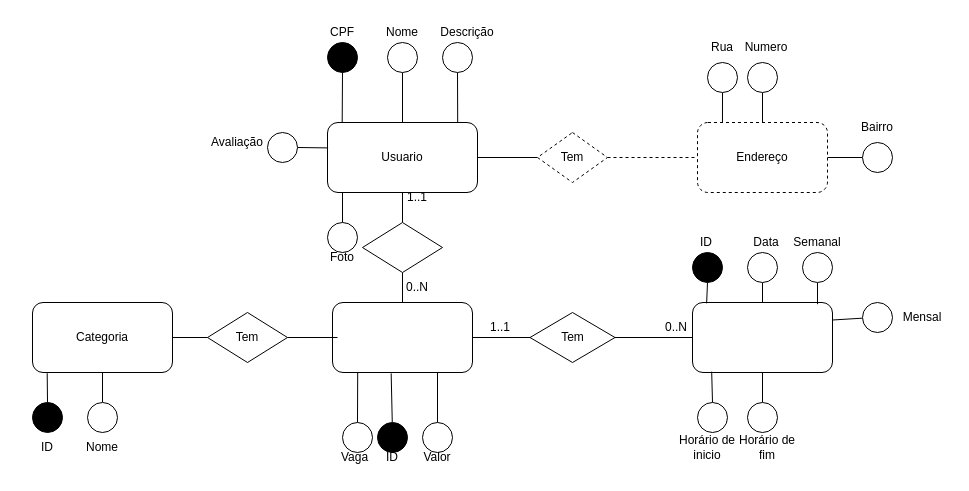
Some shapes in this 969 by 491 pixel diagram are drawn without their labels. The centre of each missing label's shape, as x and y in pixels:
"Disponibilidade" goes at (x=762, y=337).
"Gera" goes at (x=402, y=247).
"Serviço" goes at (x=402, y=337).
